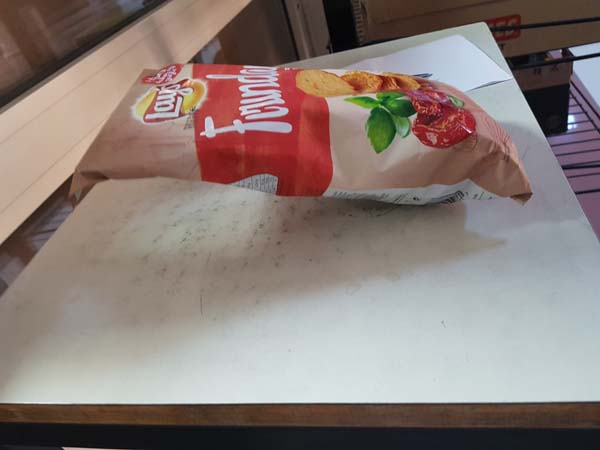laysfirindan: (63, 56, 538, 227)
